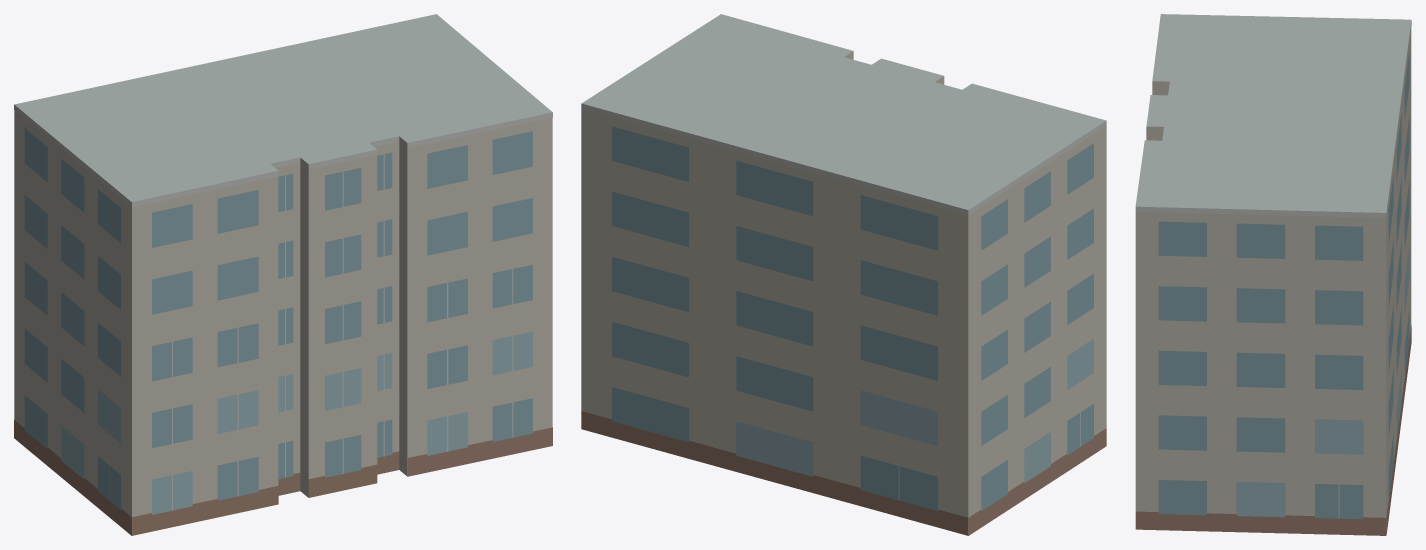
File: survey-upis-32542905.glb
3 renders of one model, left to right at view 1: azimuth 30°, elevation 25°; view 2: azimuth 150°, elevation 25°; view 3: azimuth 270°, elevation 25°, orthographic. The views are drawn at different scales.
Visible parts, largest first — view 1: survey-upis-32542905.tmp; view 2: survey-upis-32542905.tmp; view 3: survey-upis-32542905.tmp.
Boxes of the visible parts, <box> form: survey-upis-32542905.tmp: <box>14,14,552,535</box>; survey-upis-32542905.tmp: <box>581,14,1106,535</box>; survey-upis-32542905.tmp: <box>1135,14,1411,535</box>.
Size of the model in its own units: 20.16 by 15.25 by 11.82.
